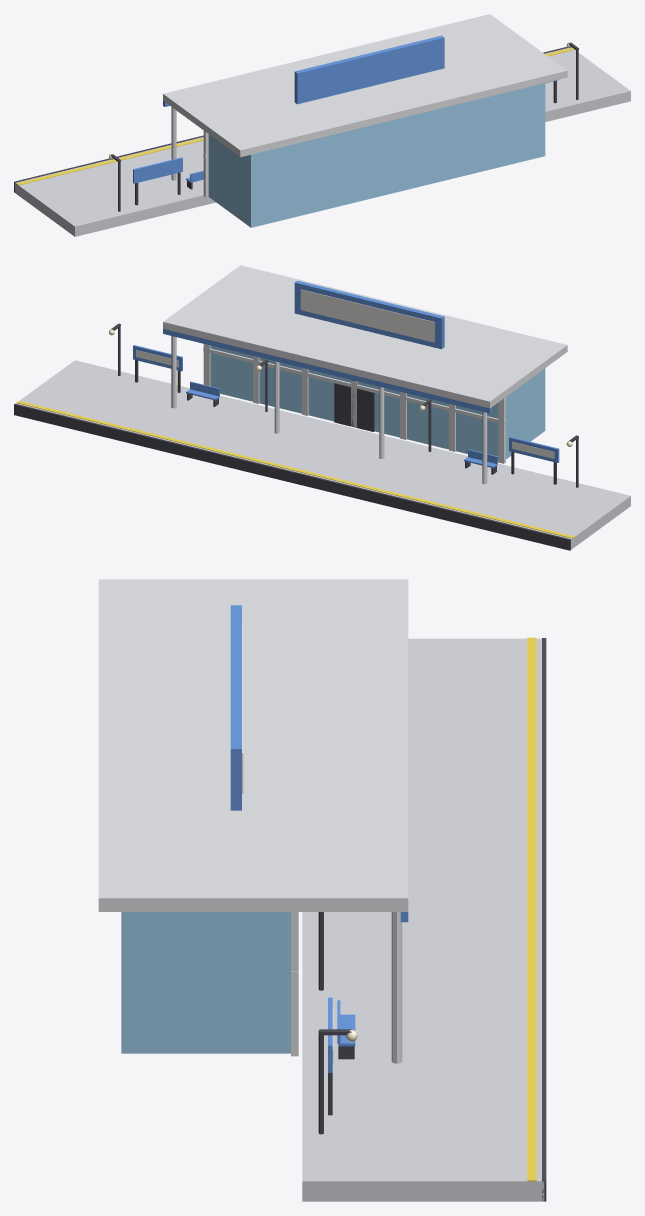
Rendered from Station_city.fbx.
3 views of the same model, one above another, from view 1: azimuth 30°, elevation 25°; view 2: azimuth 150°, elevation 25°; view 3: azimuth 270°, elevation 25° (orthographic). The views are drawn at different scales.
Visible parts, largest first — view 1: Station_city; view 2: Station_city; view 3: Station_city.
Boxes of the visible parts, x1,y1,x2,y2 form: Station_city: [14, 14, 630, 236]; Station_city: [14, 265, 630, 550]; Station_city: [98, 579, 546, 1201].
Bounding box in the file's own units: 34 × 7.4 × 11.86.
